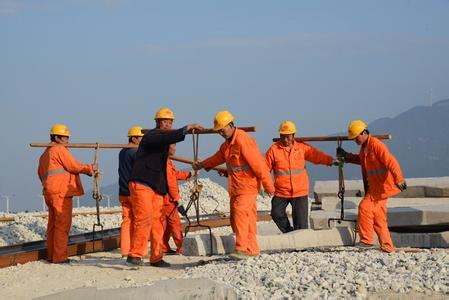boots: (125, 257, 143, 266), (149, 259, 169, 267), (229, 250, 246, 259), (353, 241, 375, 247)
gloves: (185, 124, 203, 133), (88, 163, 99, 176), (396, 181, 407, 192), (335, 146, 345, 157), (192, 161, 202, 170), (332, 158, 342, 166)
hard-hat: (212, 110, 234, 130), (347, 119, 367, 139), (277, 119, 295, 135), (49, 124, 71, 136), (153, 108, 175, 120), (127, 127, 144, 136)
person: (125, 106, 204, 268), (192, 110, 275, 259), (335, 118, 406, 253), (261, 119, 341, 234), (37, 124, 97, 264), (160, 142, 199, 255), (117, 126, 145, 259)
ppe-suit: (199, 126, 274, 255), (343, 135, 406, 253), (37, 143, 94, 263), (263, 139, 333, 232), (162, 158, 191, 254)
